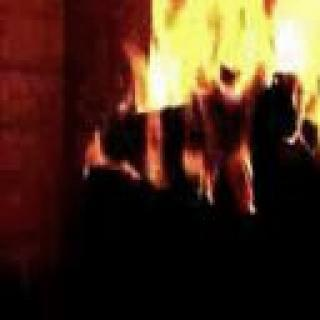fire: (135, 0, 320, 150)
